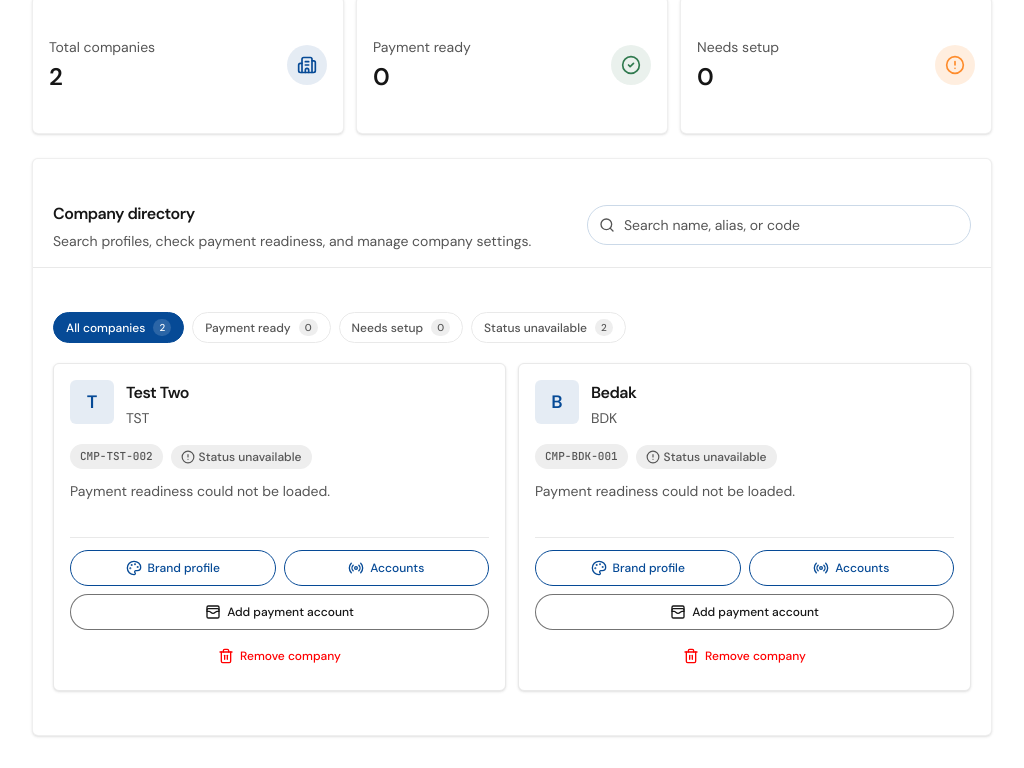
Remove company › needs the code typed, then removes the company from the list
(page scrolled)
Click the button "Remove company" below "CMP-TST-002" at x=280, y=656, box [70, 638, 489, 674]
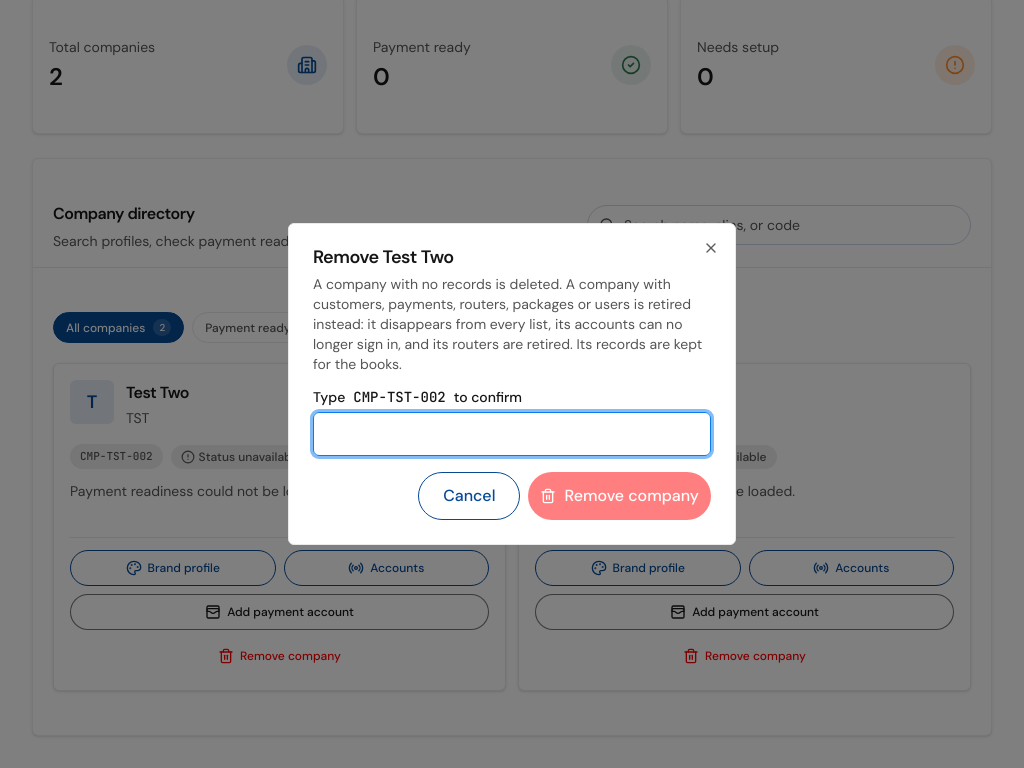
Now the button "Remove company" is disabled, box [528, 472, 711, 520]
Type "cmp-tst-002" into the field labelled "Type CMP-TST-002 to confirm" at x=512, y=434, box [313, 412, 711, 456]
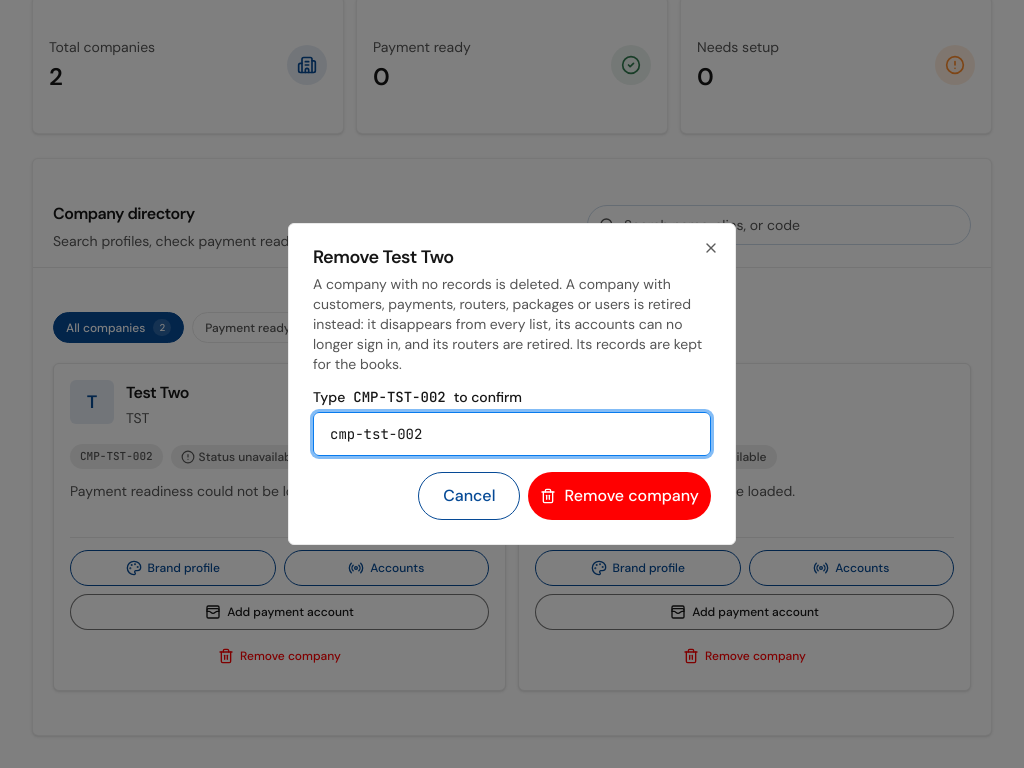
Now the button "Remove company" is enabled
Click the button "Remove company" at x=620, y=496, box [528, 472, 711, 520]
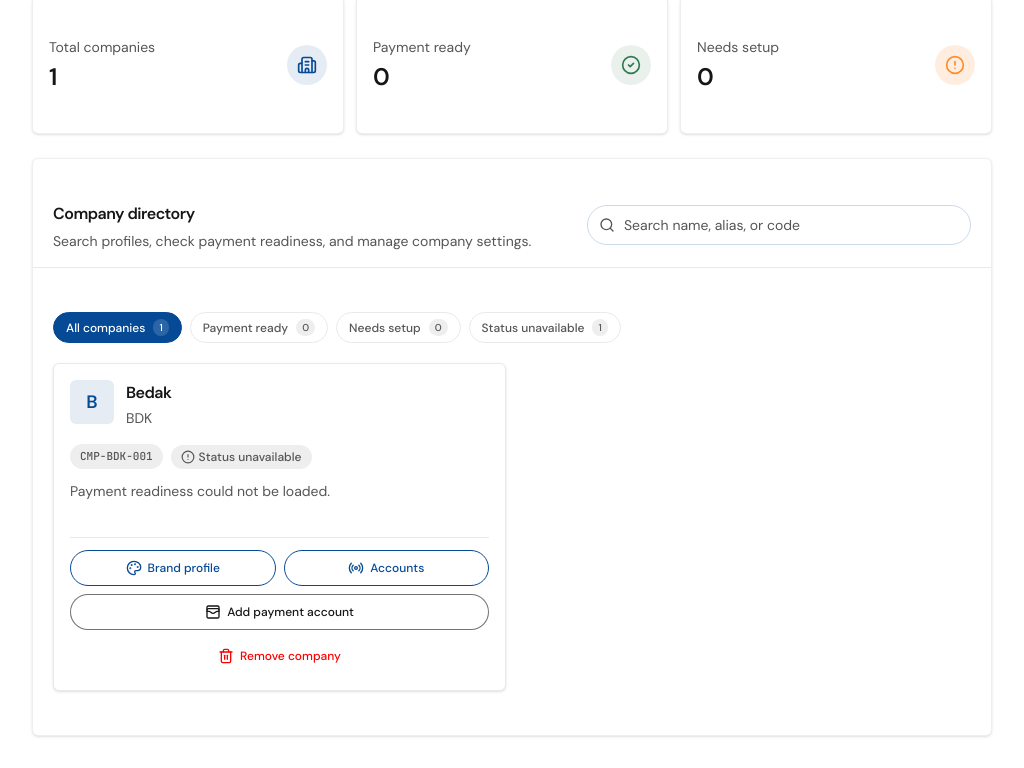
Expected: the heading "Bedak" is shown, [126, 382, 171, 403]
Now the heading "Test Two" is gone
